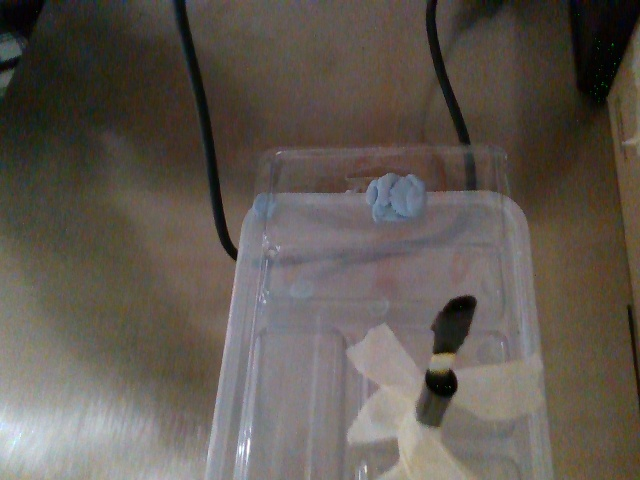test_strip: (428, 295, 478, 372)
